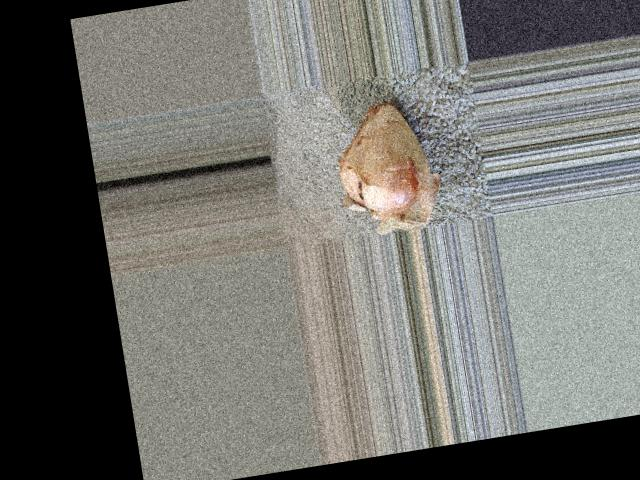onion: (328, 96, 429, 214)
